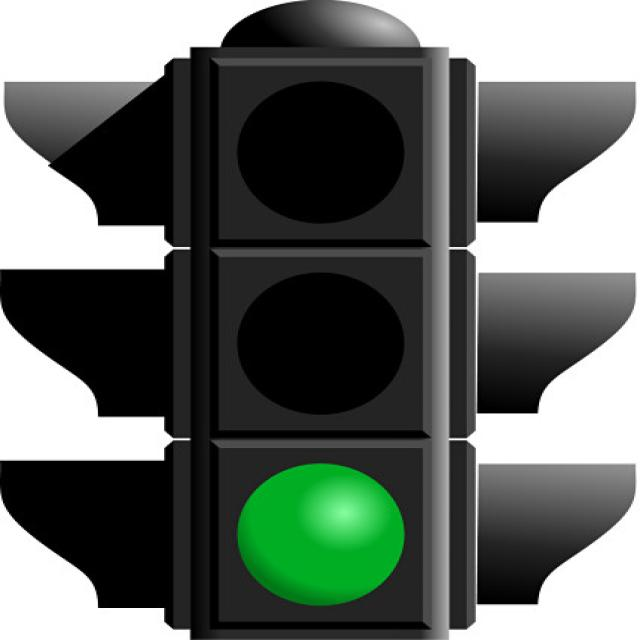green: (237, 463, 412, 608)
